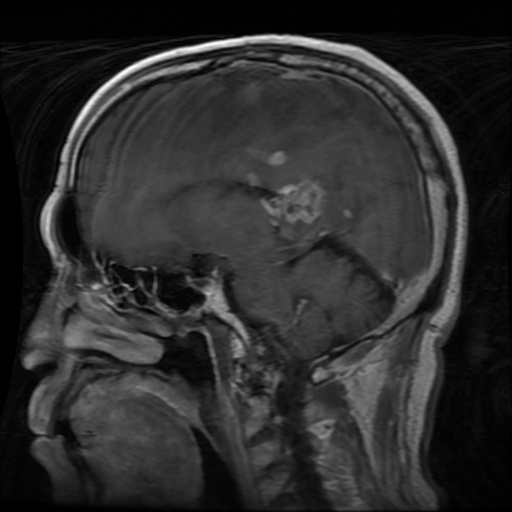glioma: (235, 143, 325, 227)
